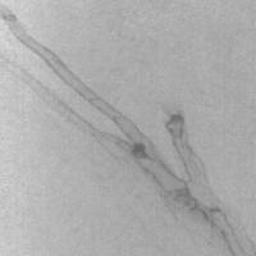Water spot: (0, 3, 256, 256)
